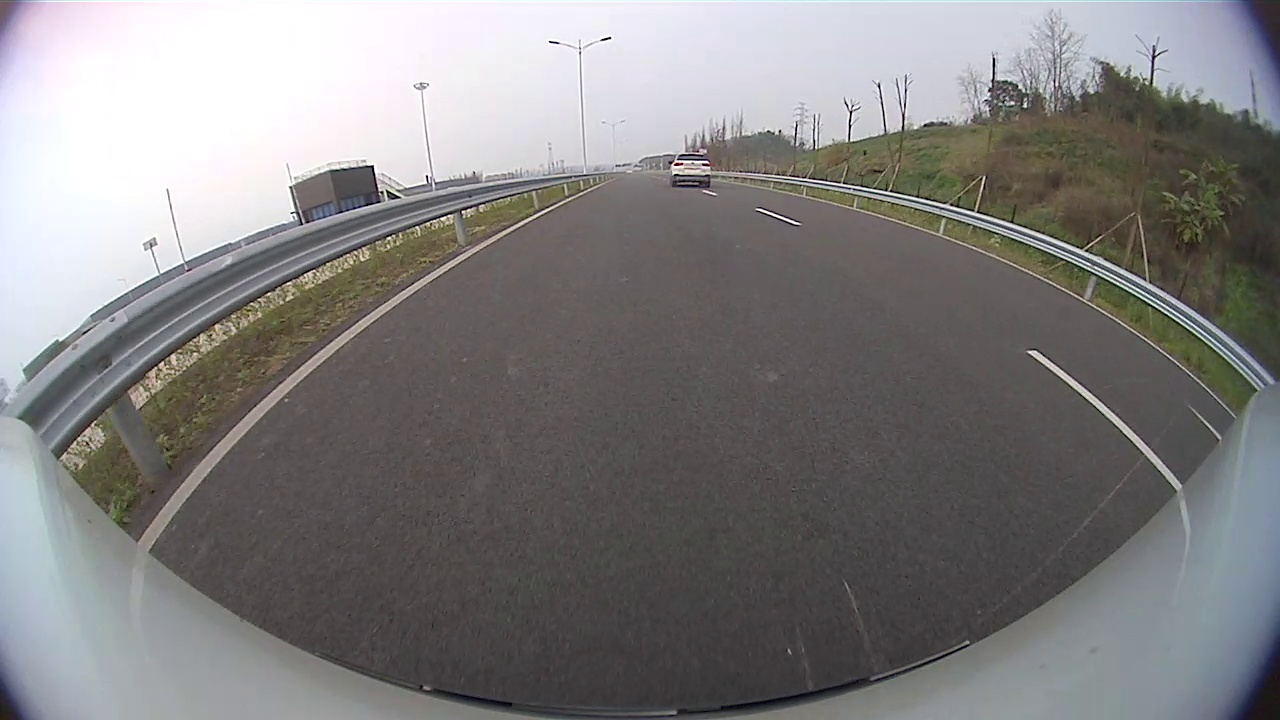car: (668, 152, 711, 188)
